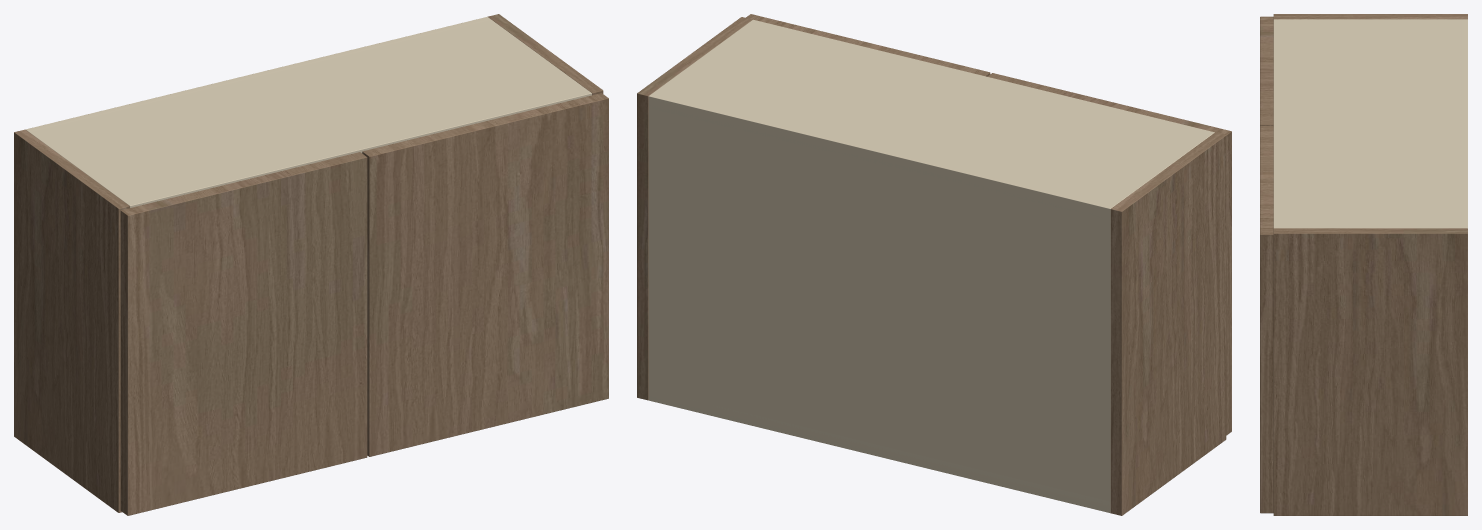
The model's file is oppein-ply-mnw-w3018.glb.
3 views of the same model, side by side, from view 1: azimuth 30°, elevation 25°; view 2: azimuth 150°, elevation 25°; view 3: azimuth 270°, elevation 25° (orthographic). The views are drawn at different scales.
Parts seen in each view (by area): view 1: Door, Door.001, Cabinet top, Cabinet side, Cabinet back, Cabinet side.001; view 2: Cabinet back, Cabinet top, Cabinet side, Cabinet side.001, Cabinet bottom, Door, Door.001; view 3: Cabinet side.001, Cabinet top, Door.001, Cabinet back, Door, Cabinet side.
Part boxes in pixels (x1,y1,x2,y2): Door: [120, 152, 367, 515]; Door.001: [362, 93, 608, 456]; Cabinet top: [30, 17, 591, 207]; Cabinet side: [14, 129, 129, 512]; Cabinet back: [25, 16, 490, 132]; Cabinet side.001: [488, 14, 603, 95]; Cabinet back: [648, 93, 1114, 512]; Cabinet top: [648, 19, 1214, 218]; Cabinet side: [1110, 132, 1226, 515]; Cabinet side.001: [637, 17, 752, 400]; Cabinet bottom: [649, 390, 1110, 512]; Door: [987, 73, 1231, 435]; Door.001: [746, 14, 990, 76]; Cabinet side.001: [1273, 228, 1467, 515]; Cabinet top: [1273, 19, 1467, 228]; Door.001: [1260, 126, 1273, 513]; Cabinet back: [1460, 19, 1467, 228]; Door: [1260, 16, 1273, 125]; Cabinet side: [1273, 14, 1467, 19].
Bounding box in the file's own units: 0.762 × 0.4572 × 0.3048.
Materials: 2 (1 with a texture image).
